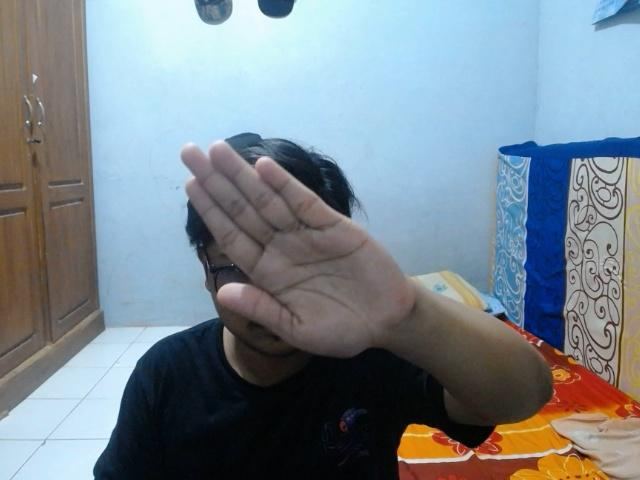Release: (176, 132, 426, 370)
